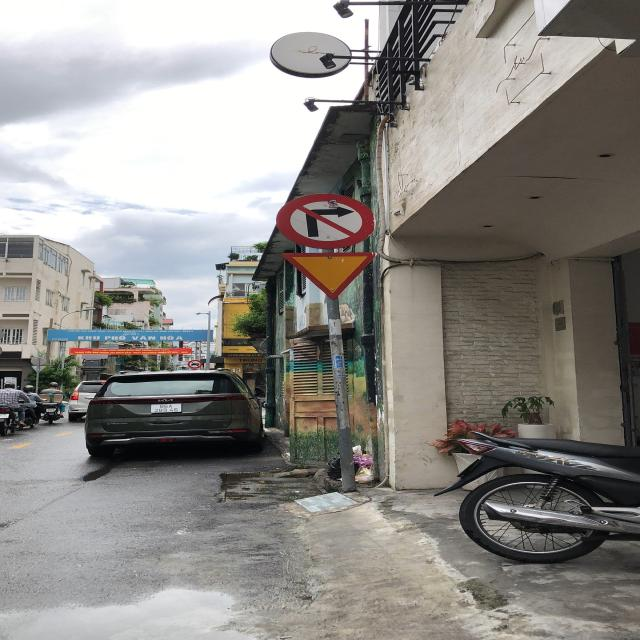Bien bao cam re phai: (274, 188, 381, 246)
Bien bao giao nhau voi duong uu tien: (274, 249, 396, 303)
